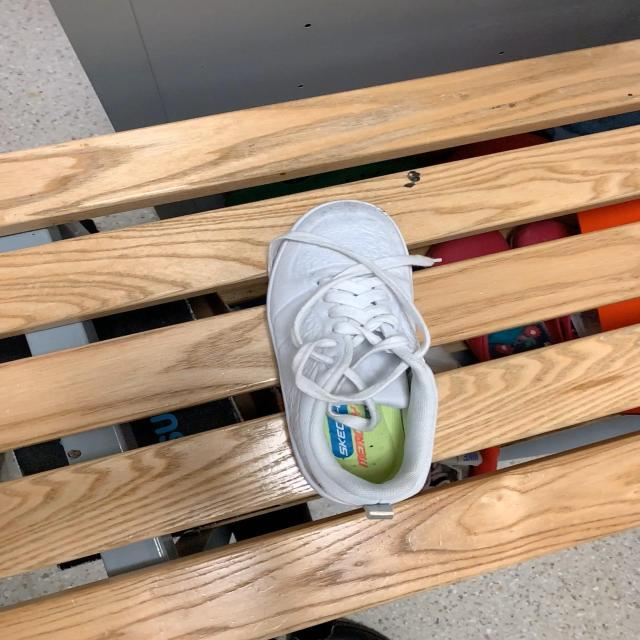shoe: (266, 200, 439, 521)
